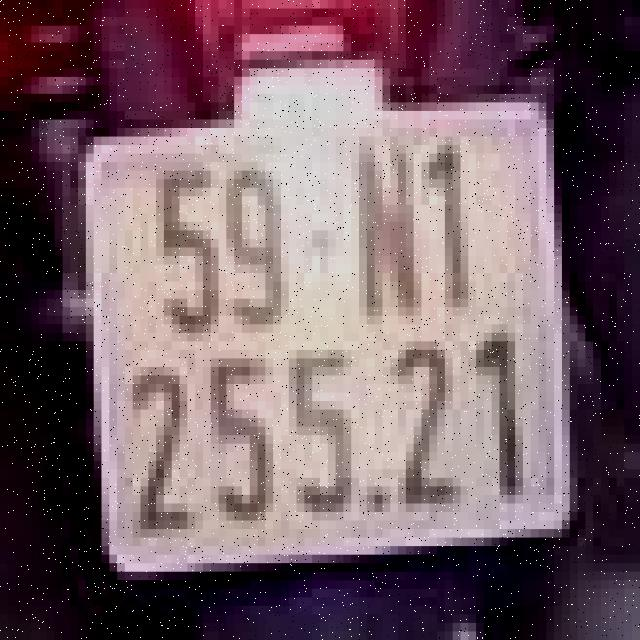1: (472, 333, 535, 512), (425, 132, 480, 320)
2: (382, 333, 468, 512), (117, 363, 195, 542)
5: (144, 162, 222, 341), (199, 354, 277, 525), (281, 341, 359, 512)
9: (226, 158, 296, 328)
N: (340, 141, 426, 328)
